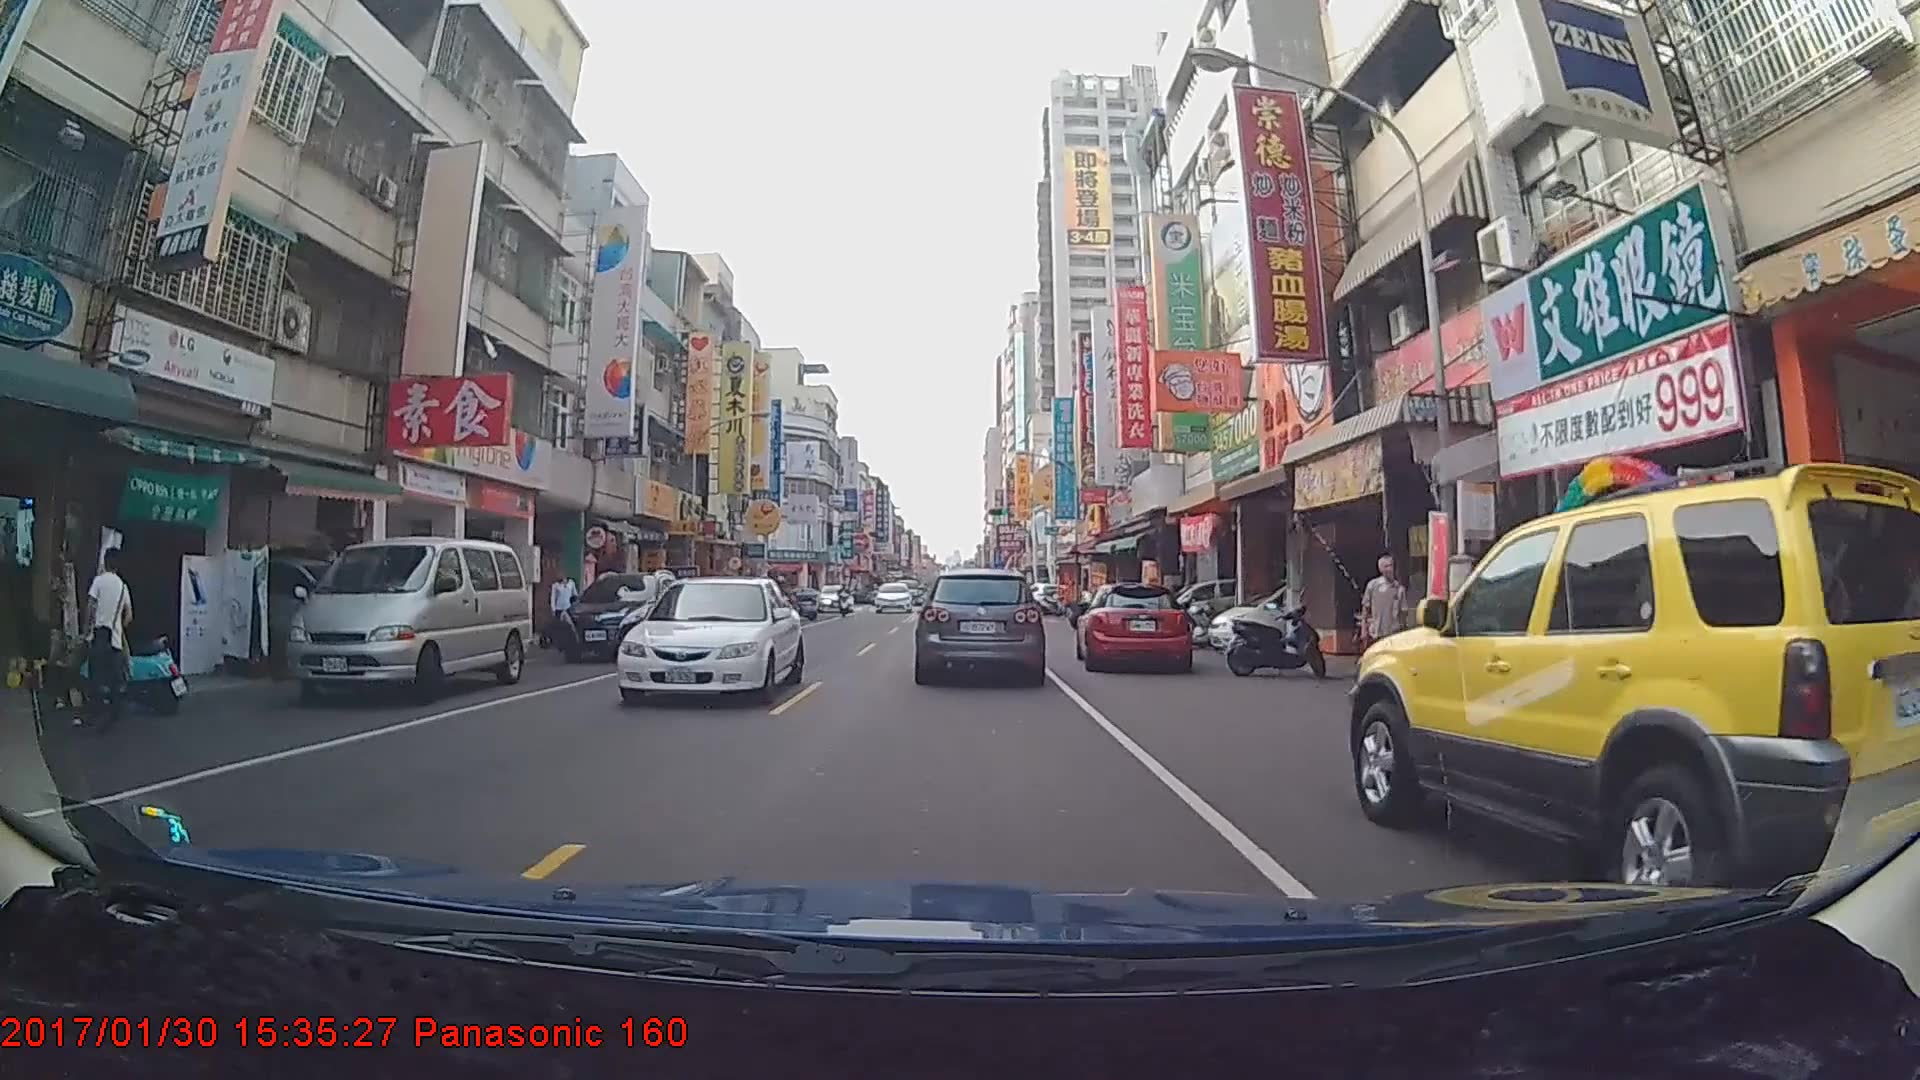pedestrian: (79, 550, 134, 739), (1359, 555, 1414, 706), (549, 570, 582, 644)
vehicle: (1349, 470, 1920, 926), (282, 535, 532, 707), (615, 573, 804, 705), (915, 567, 1045, 681), (557, 569, 686, 662), (1074, 578, 1193, 671), (872, 585, 912, 615), (817, 585, 854, 613)
